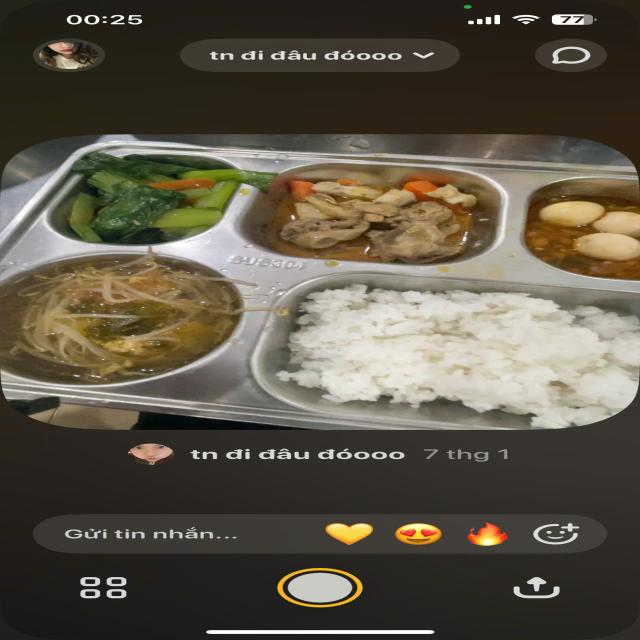canh_cai: (82, 154, 221, 236)
canh_chua: (0, 263, 238, 380)
com_trang: (303, 277, 640, 417)
thit_kho: (290, 177, 462, 256)
